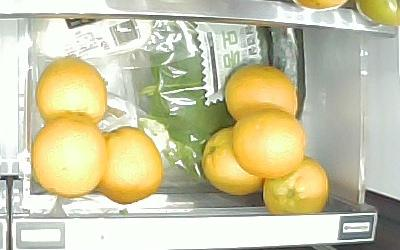orange: (33, 118, 107, 196), (231, 109, 308, 177), (98, 127, 164, 204), (36, 57, 107, 125), (202, 126, 264, 196), (226, 63, 299, 119), (263, 156, 329, 214)
